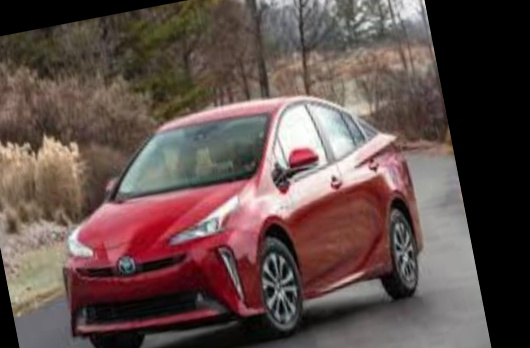car: (24, 68, 437, 348)
